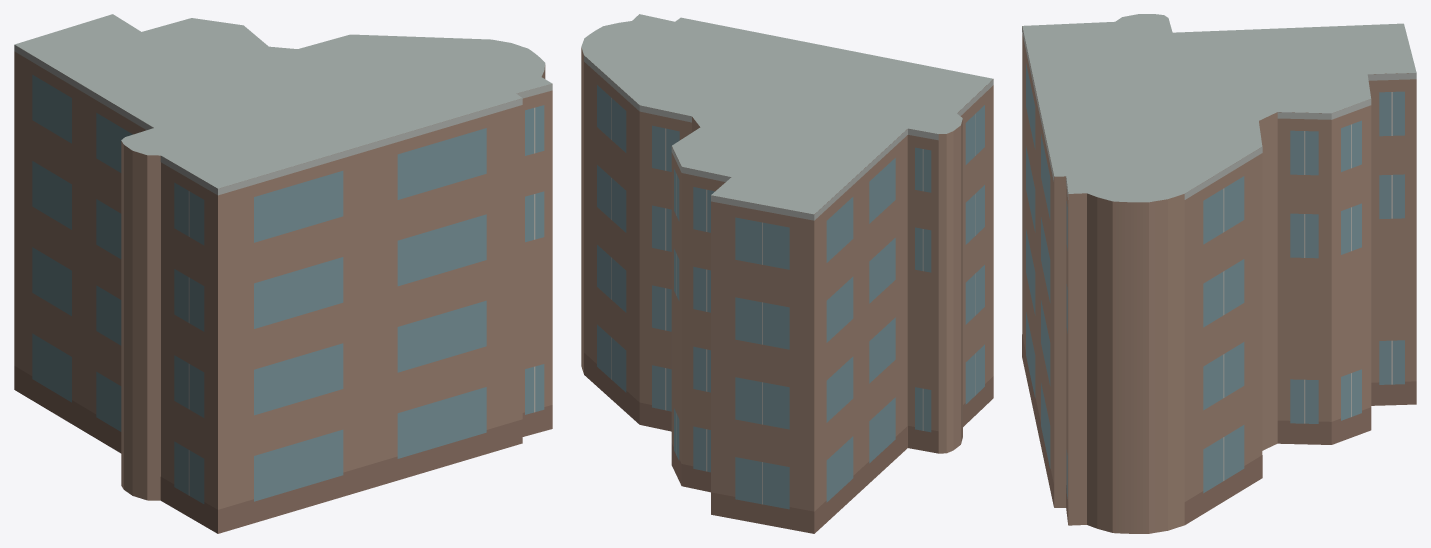
File: survey-upis-32671514.glb
3 renders of one model, left to right at view 1: azimuth 30°, elevation 25°; view 2: azimuth 150°, elevation 25°; view 3: azimuth 270°, elevation 25°, orthographic. The views are drawn at different scales.
Visible parts, largest first — view 1: survey-upis-32671514.tmp; view 2: survey-upis-32671514.tmp; view 3: survey-upis-32671514.tmp.
Boxes of the visible parts, x1,y1,x2,y2 form: survey-upis-32671514.tmp: (14, 14, 552, 533); survey-upis-32671514.tmp: (581, 14, 993, 533); survey-upis-32671514.tmp: (1022, 14, 1416, 533).
Bounding box in the file's own units: 15.23 × 12.5 × 13.48.
